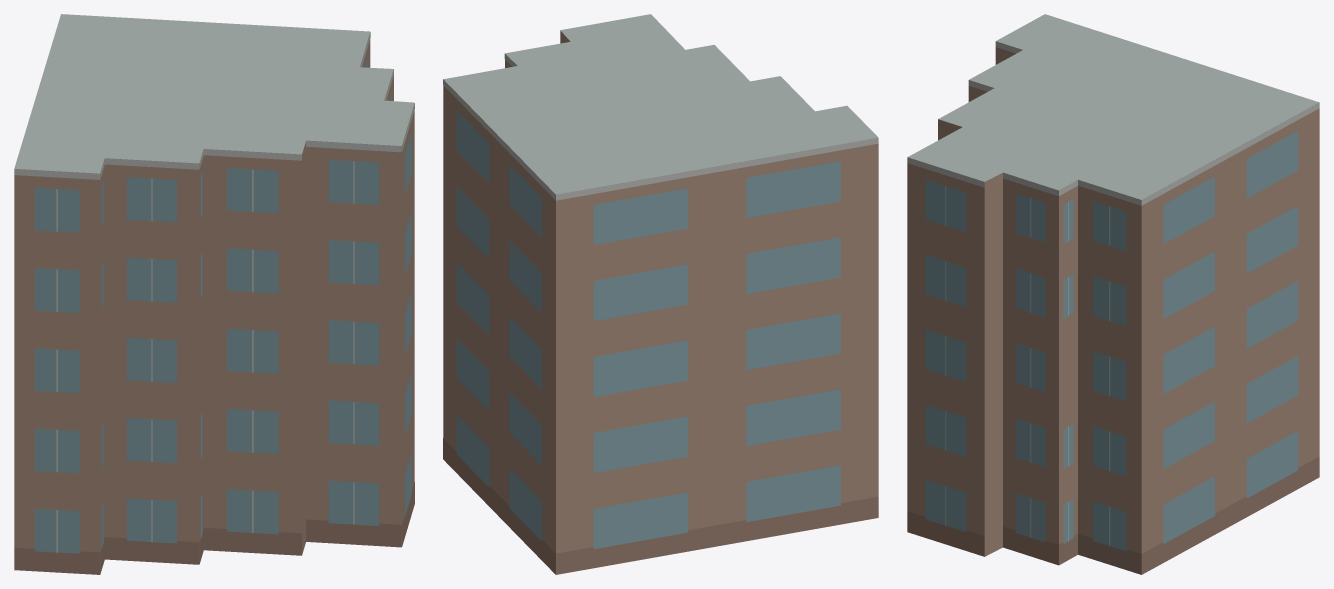
File: survey-upis-32736815.glb
3 renders of one model, left to right at view 1: azimuth 30°, elevation 25°; view 2: azimuth 150°, elevation 25°; view 3: azimuth 270°, elevation 25°, orthographic. The views are drawn at different scales.
Visible parts, largest first — view 1: survey-upis-32736815.tmp; view 2: survey-upis-32736815.tmp; view 3: survey-upis-32736815.tmp.
Boxes of the visible parts, bbox=[...] form: survey-upis-32736815.tmp: bbox=[14, 14, 414, 574]; survey-upis-32736815.tmp: bbox=[443, 14, 878, 574]; survey-upis-32736815.tmp: bbox=[907, 14, 1319, 574].
Size of the model in its own units: 16.61 by 15.6 by 15.55.
